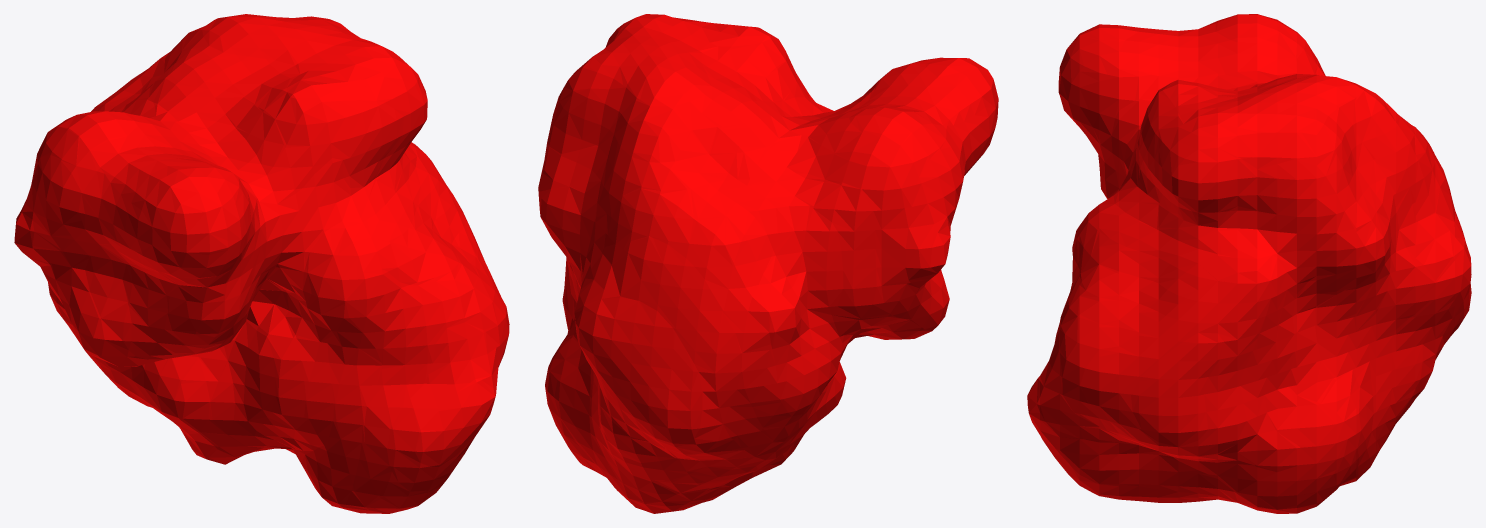
File: yhjH_coarse.dae
3 views of the same model, side by side, from view 1: azimuth 30°, elevation 25°; view 2: azimuth 150°, elevation 25°; view 3: azimuth 270°, elevation 25° (orthographic). The views are drawn at different scales.
Visible parts, largest first — view 1: yhjH; view 2: yhjH; view 3: yhjH.
Boxes of the visible parts, box(x1,y1,x2,y2) form: yhjH: box(14, 14, 509, 513); yhjH: box(538, 14, 998, 513); yhjH: box(1027, 14, 1471, 513).
Size of the model in its own units: 50.5 by 49.36 by 49.01.
